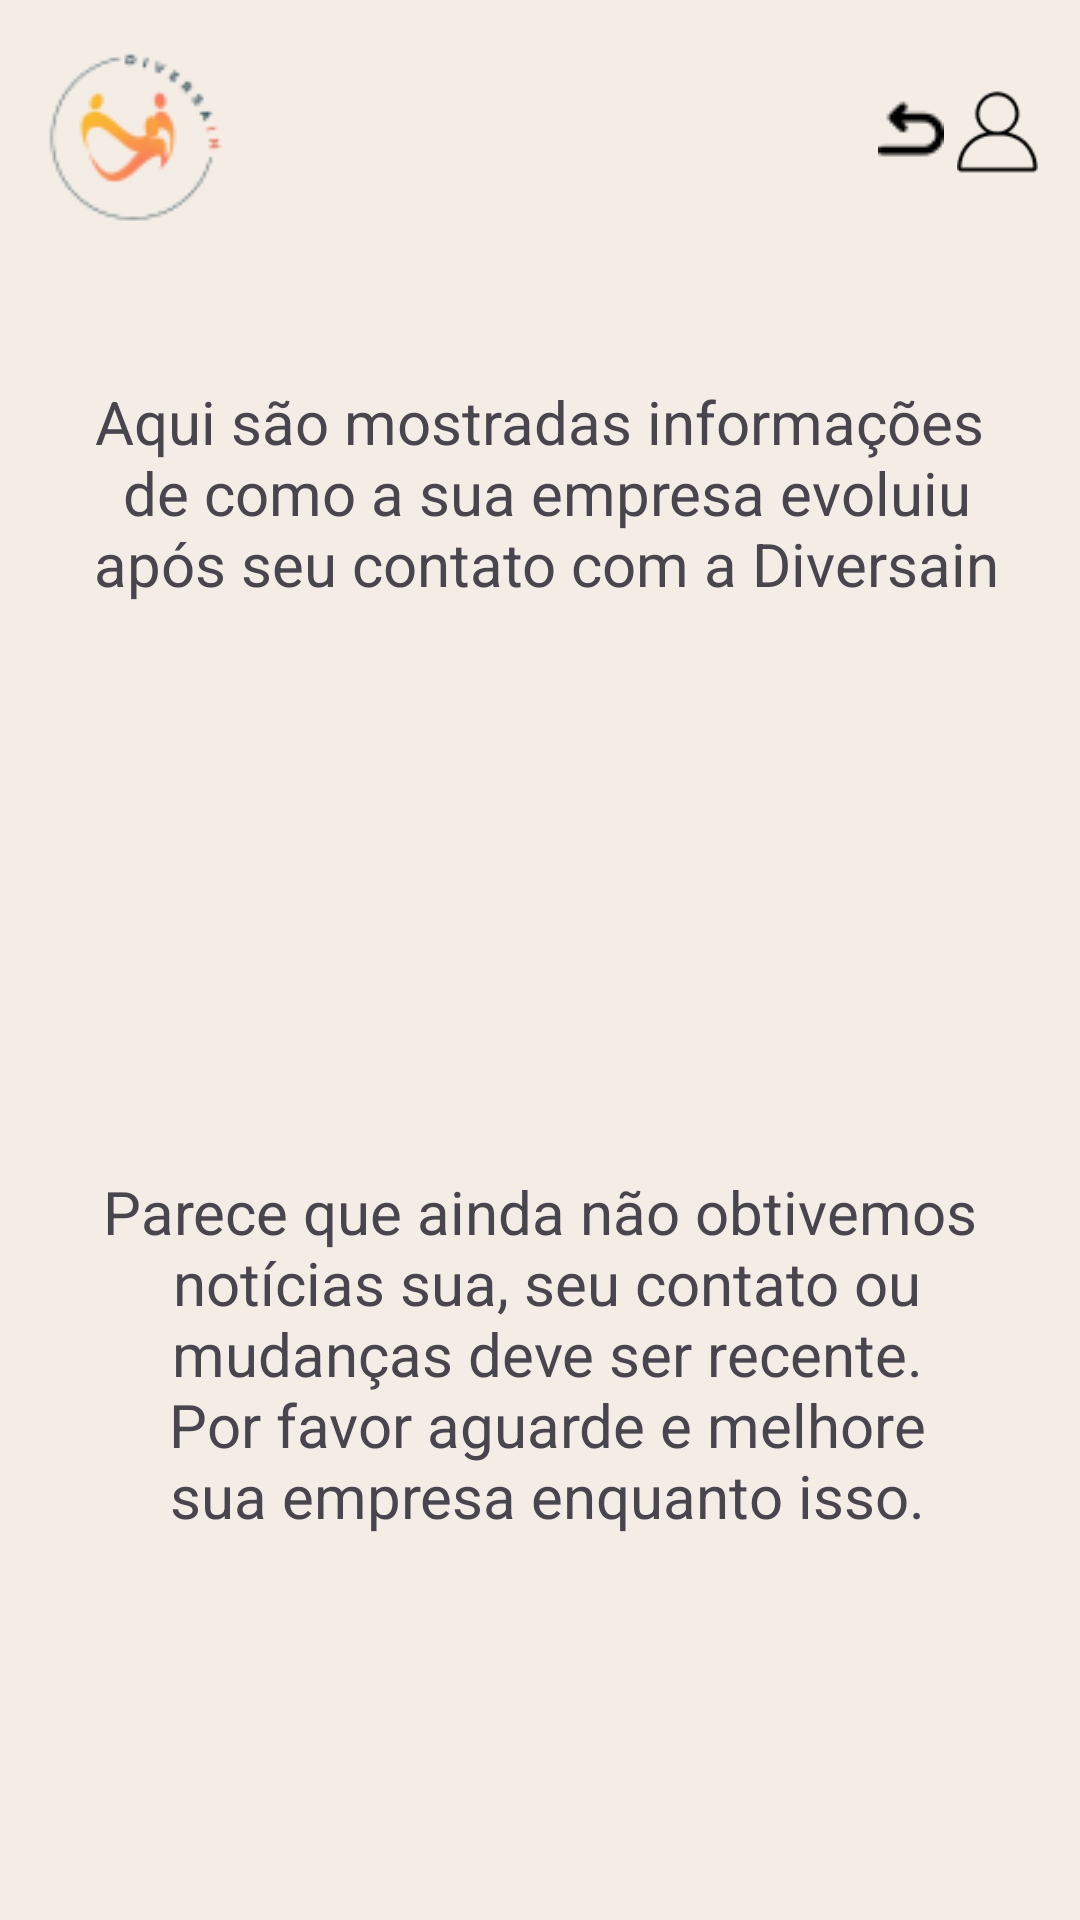

Point at icon controls on the screen. Image size 1080×1920, points as (x,y).
imagem de usuario: (997,132)
setinha: (911,129)
simbolo: (135,137)
